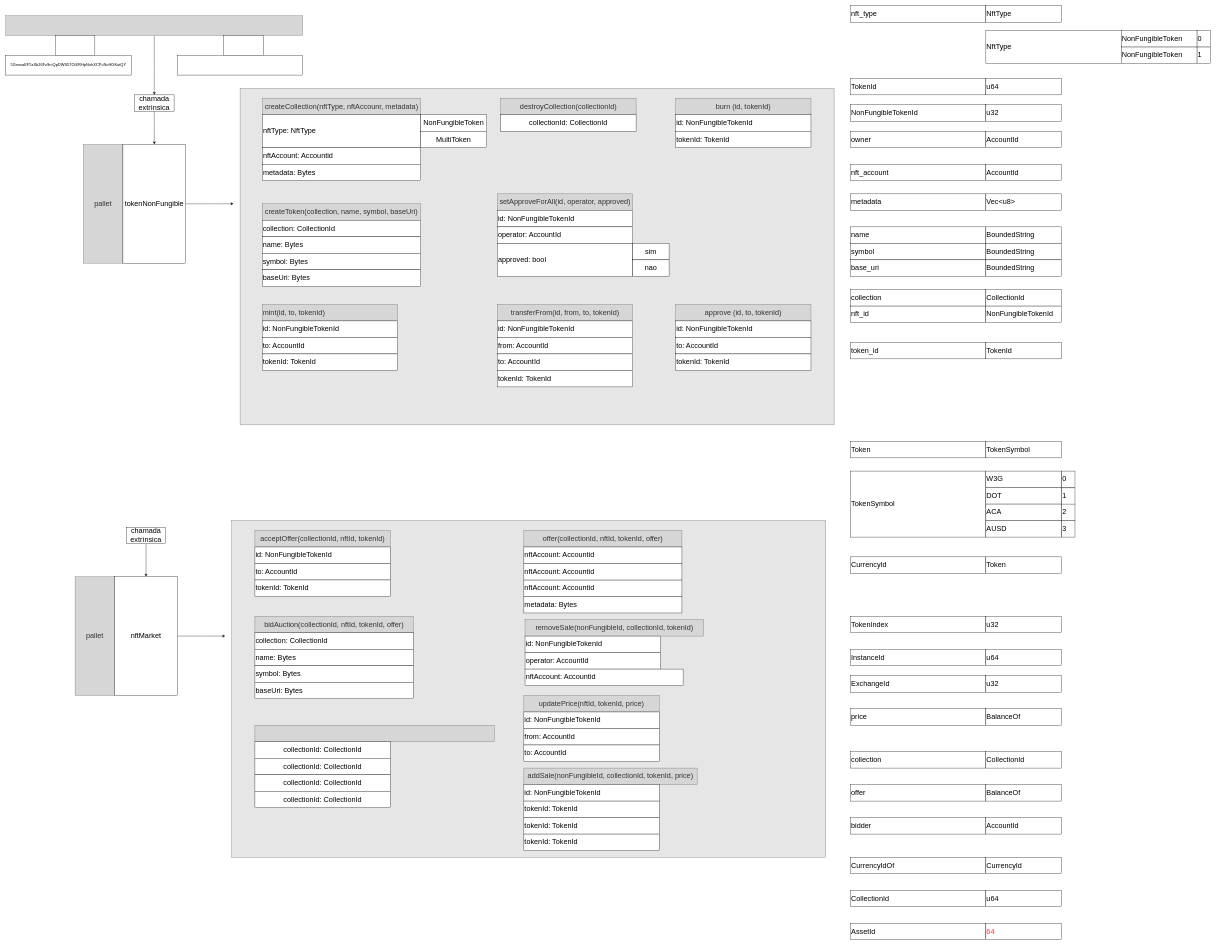
Some shapes in this 1216 by 945 pixel diagram are drawn without their labels. Each missing label, with the centre of its shape:
1.1529 MUNIT: (x=240, y=65)
Alice: (x=75, y=45)
createAuction(nonFungibleId, tokenId, minimumPrice, auctionEndBlock): (x=374, y=733)
Saldo livre: (x=243, y=45)
Usando a conta selecionada (Carteira): (x=154, y=25)
